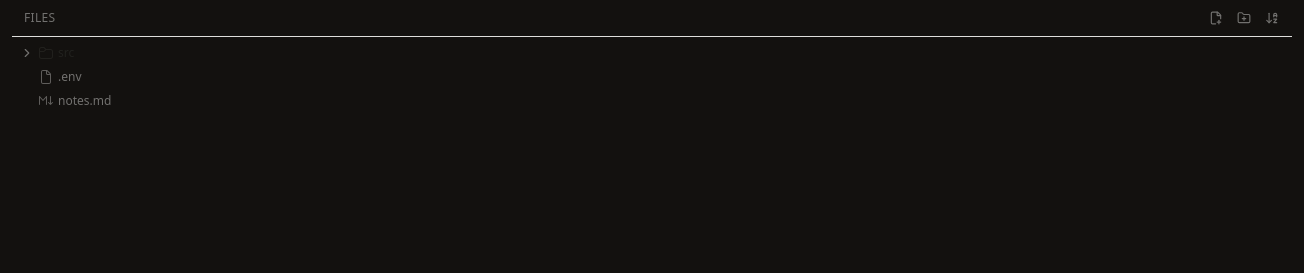
Test: FileTree file and folder management › Rename refuses while an affected tab has unsaved changes
Right-click the button with test id "file-tree-dir" at (27, 53), box top-left (12, 41), bottom-right (1292, 65)
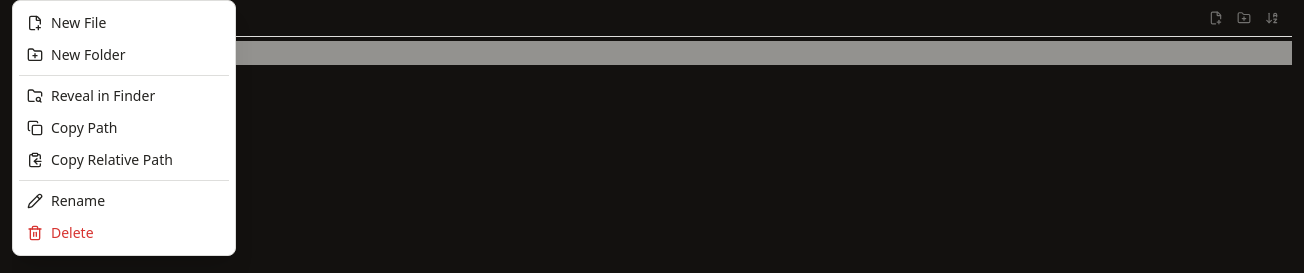
Click the menu item "Rename" at (124, 201), box top-left (19, 185), bottom-right (229, 217)
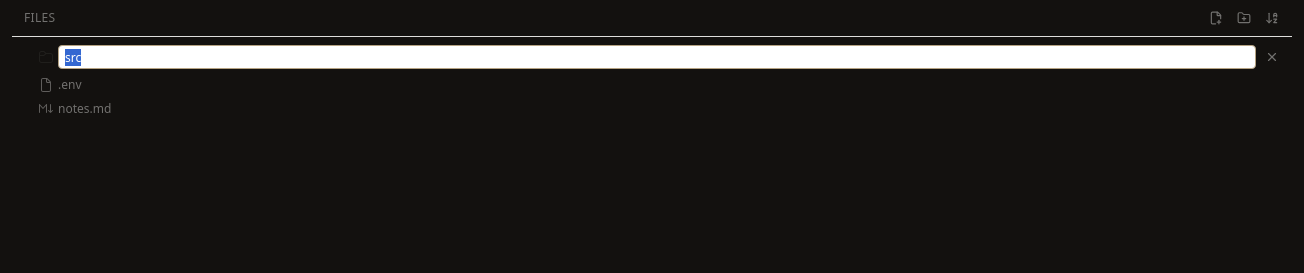
Replace the text in the field named "Rename src" with "lib" at (657, 57), box top-left (58, 45), bottom-right (1256, 69)
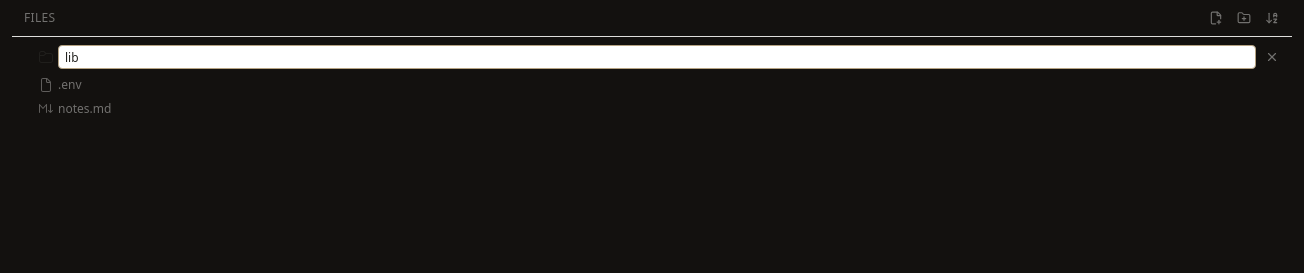
Press Enter in the field named "Rename src", box top-left (58, 45), bottom-right (1256, 69)
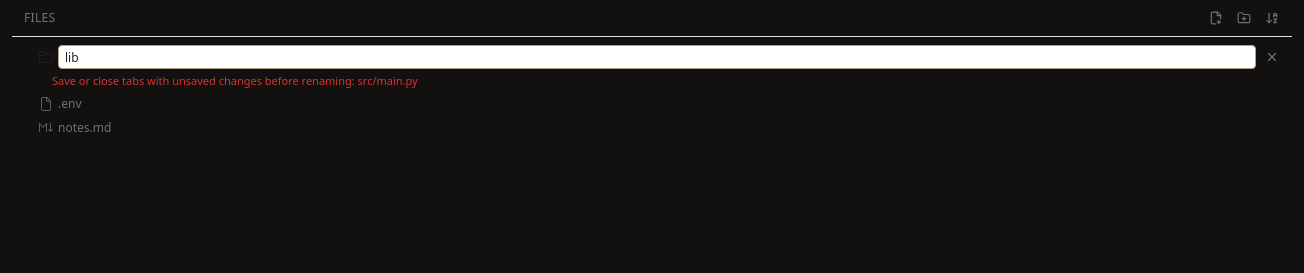
Expected: the text with test id "file-tree-rename-error" shows "src/main.py", top-left (52, 73), bottom-right (418, 88)
